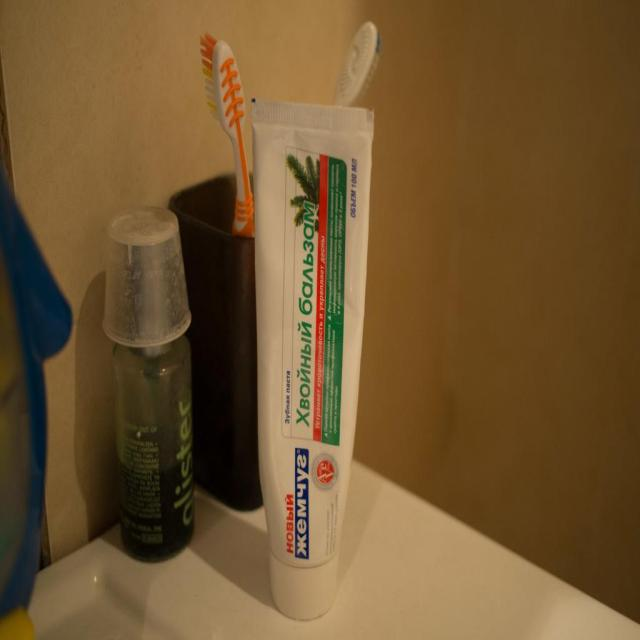Toothpaste: (248, 94, 374, 621)
